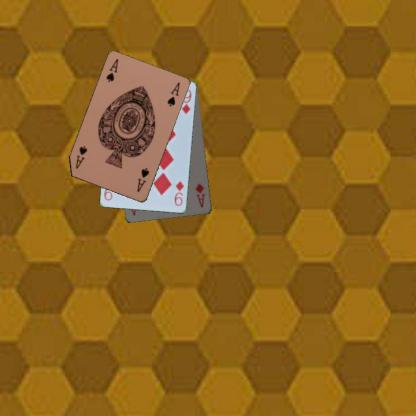9d: (172, 178, 186, 208)
Ad: (193, 181, 206, 209)
As: (135, 165, 150, 194), (104, 56, 119, 84)
